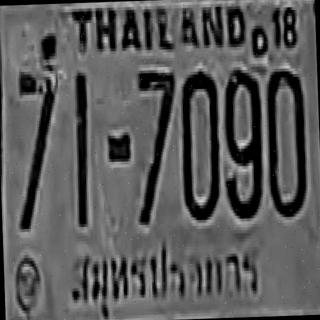N00: (178, 70, 220, 222), (266, 67, 308, 217)
N01: (71, 72, 90, 224)
N07: (14, 70, 60, 232), (135, 68, 180, 224)
N09: (221, 68, 263, 218)
P57: (65, 238, 264, 311)
